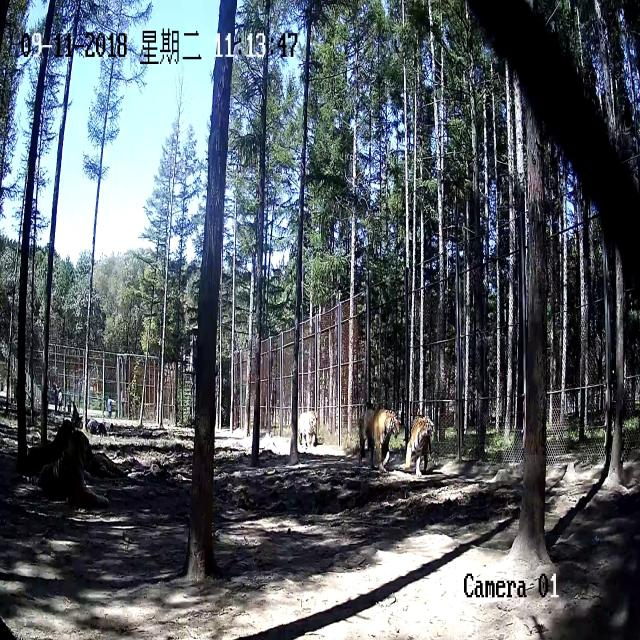Tiger: (30, 416, 120, 526), (354, 400, 400, 473), (406, 410, 436, 494), (293, 398, 324, 455)
